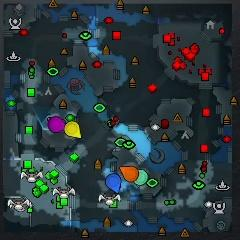p1: (106, 174, 121, 194)
p2: (132, 169, 149, 186)
p3: (49, 116, 66, 133)
p4: (64, 122, 82, 139)
p5: (119, 166, 139, 183)
